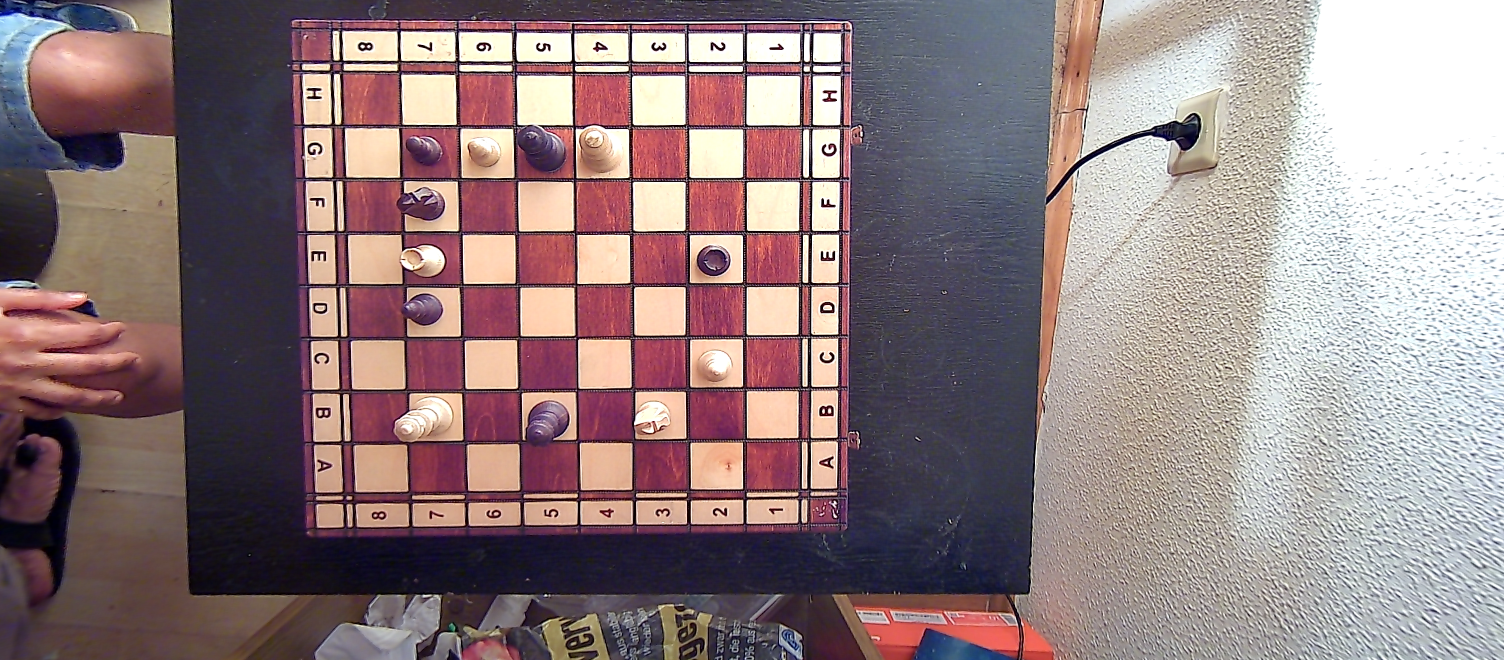black-bishop: (404, 289, 446, 330)
black-king: (512, 122, 569, 174)
black-knight: (395, 185, 448, 223)
black-pawn: (403, 131, 446, 169)
black-queen: (523, 397, 571, 447)
black-rook: (695, 242, 733, 278)
white-bishop: (695, 346, 737, 384)
white-king: (576, 126, 623, 175)
white-knight: (632, 398, 672, 436)
white-pawn: (464, 134, 501, 169)
white-queen: (392, 395, 453, 444)
white-rook: (395, 239, 449, 280)
